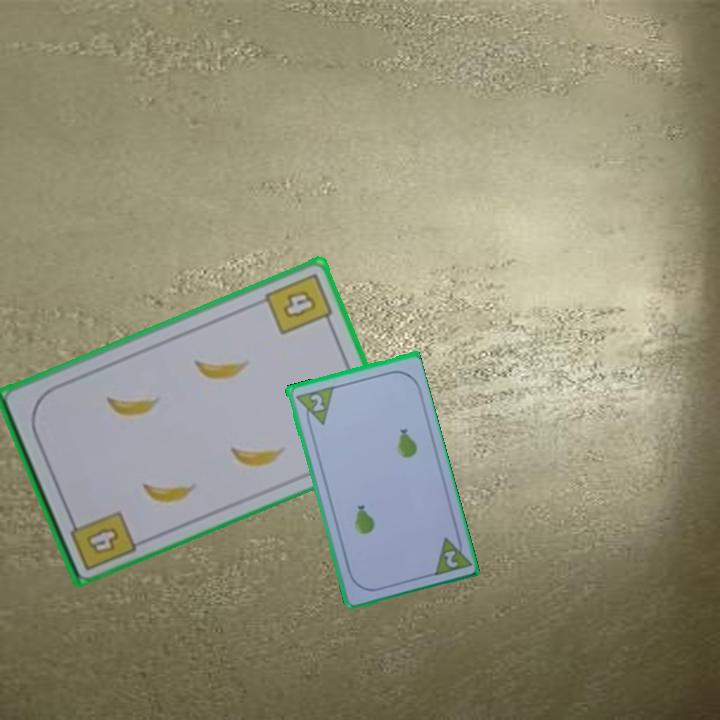2p: (429, 529, 473, 579), (306, 390, 327, 414)
4b: (261, 269, 336, 338), (65, 507, 139, 573)
